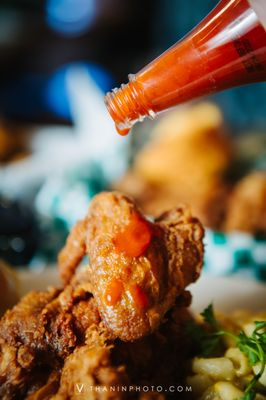taco: (104, 0, 266, 134)
